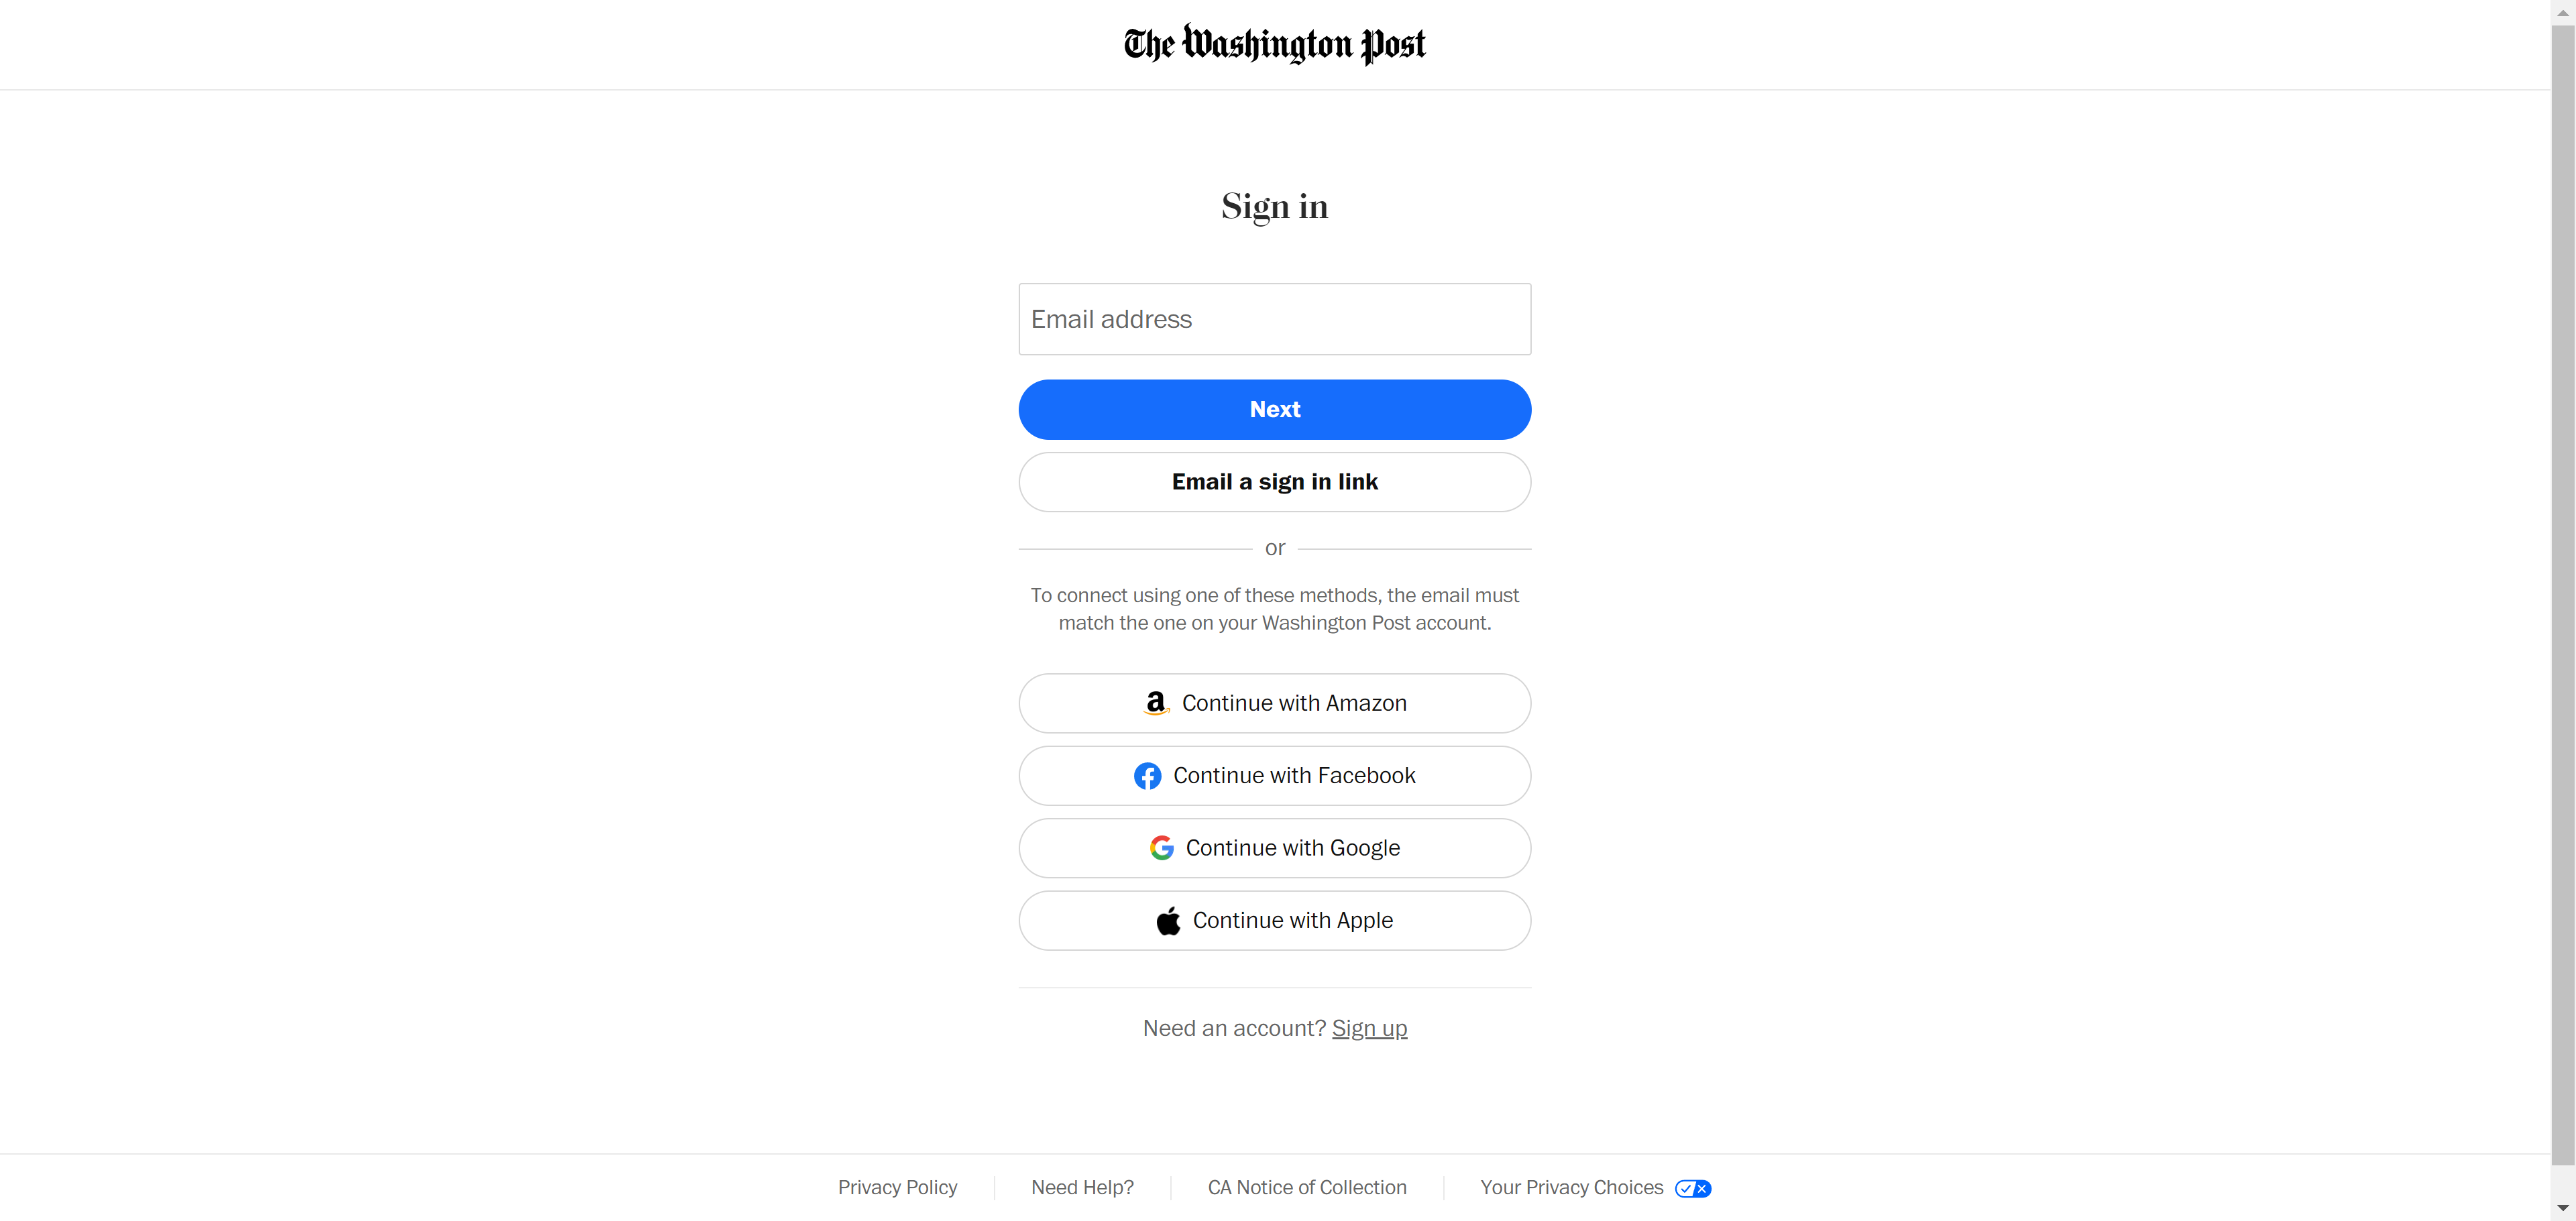login_button: (1019, 380, 1531, 439)
login_form: (1012, 276, 1538, 445)
